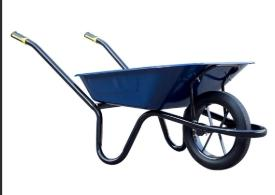BROUETTE: (10, 29, 275, 170)
